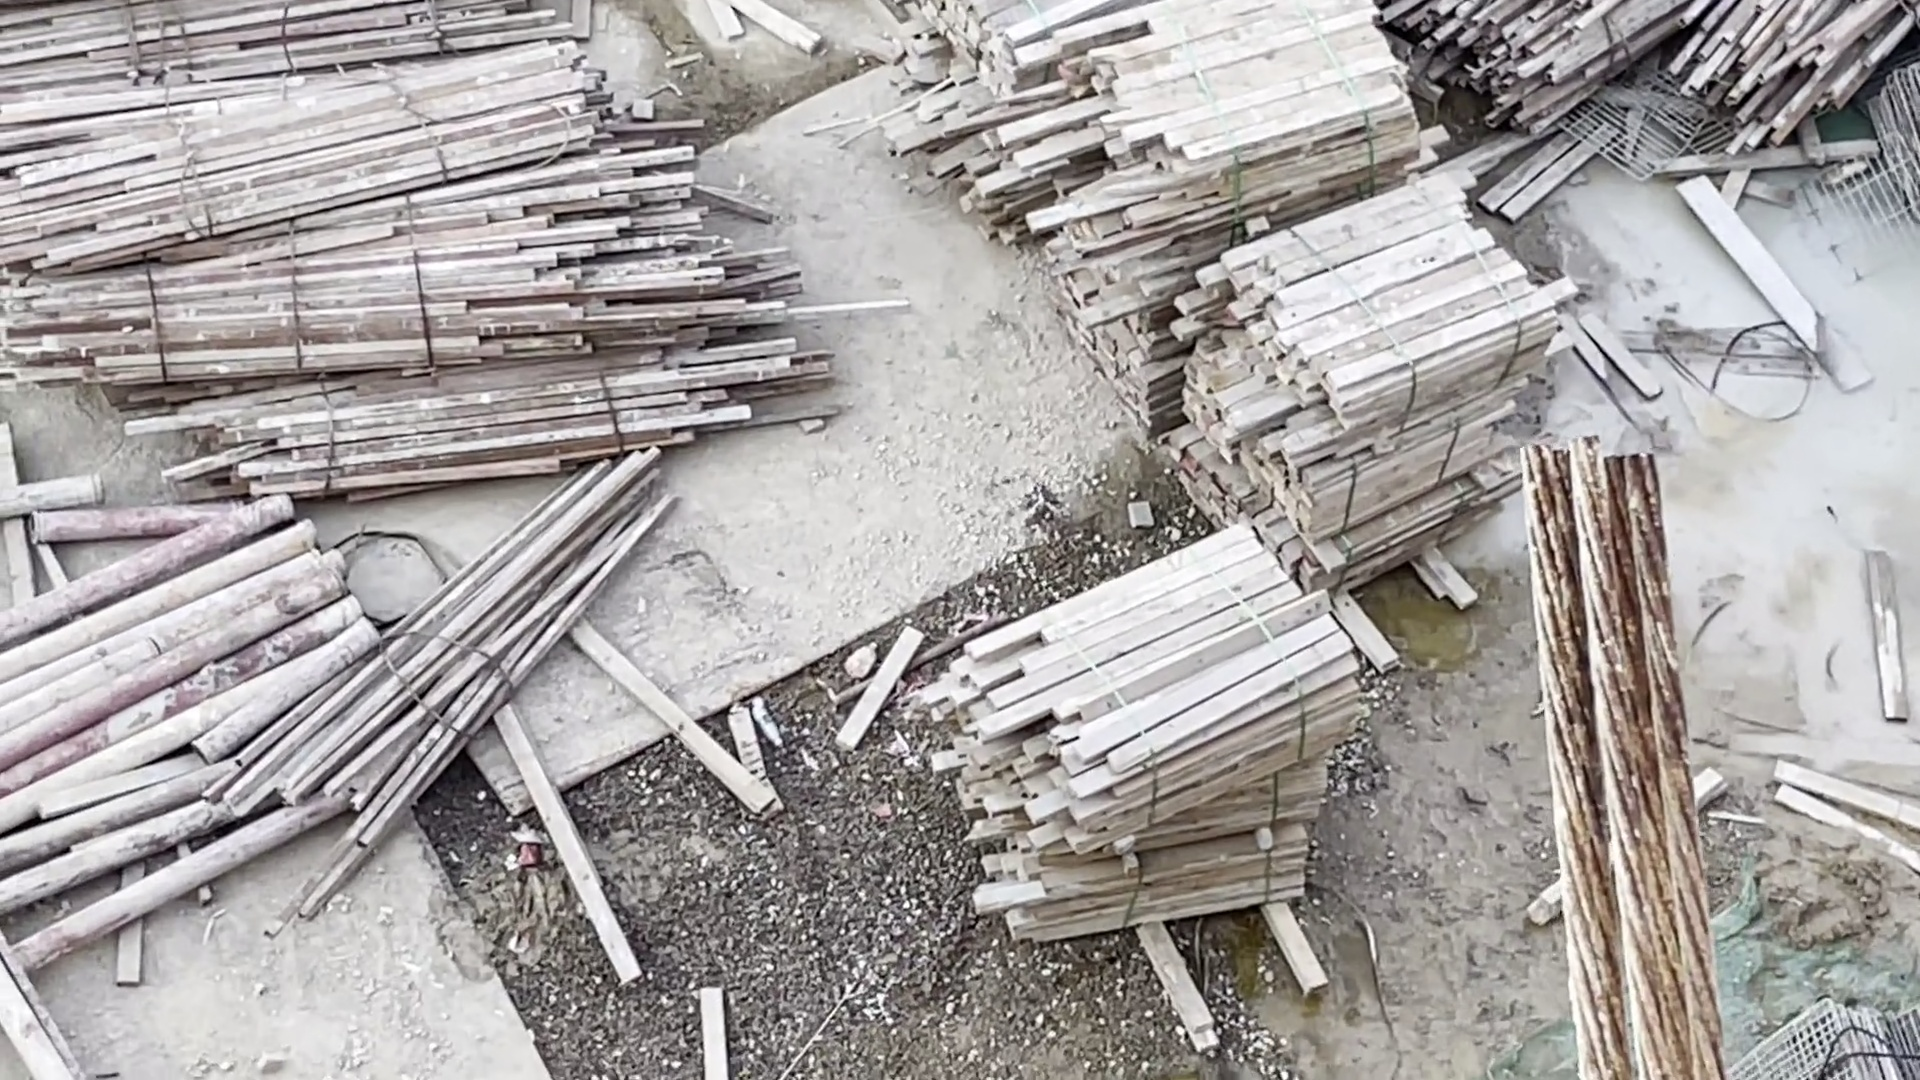wood: (21, 1, 771, 447), (877, 1, 1391, 423), (949, 541, 1356, 971), (1188, 170, 1557, 593), (1420, 1, 1887, 160)
